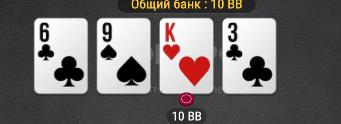3c: (223, 20, 276, 92)
6c: (35, 20, 87, 93)
9h: (98, 19, 150, 93)
Kh: (160, 20, 212, 93)
